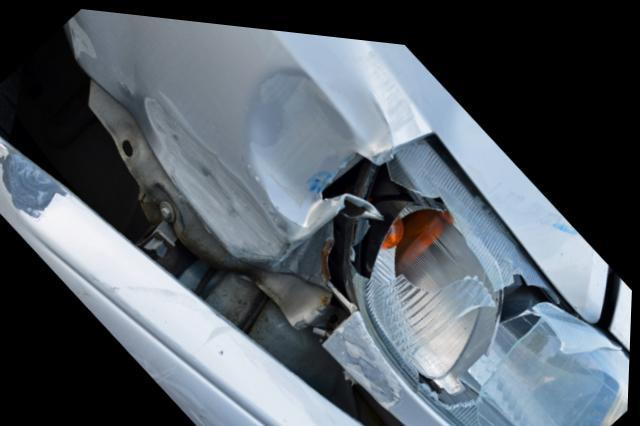dent: (245, 64, 360, 219)
dislocated part: (0, 63, 420, 426)
lamp broken: (330, 128, 632, 426)
scratch: (73, 277, 378, 426), (144, 91, 288, 253), (324, 300, 406, 406), (66, 14, 94, 62)
